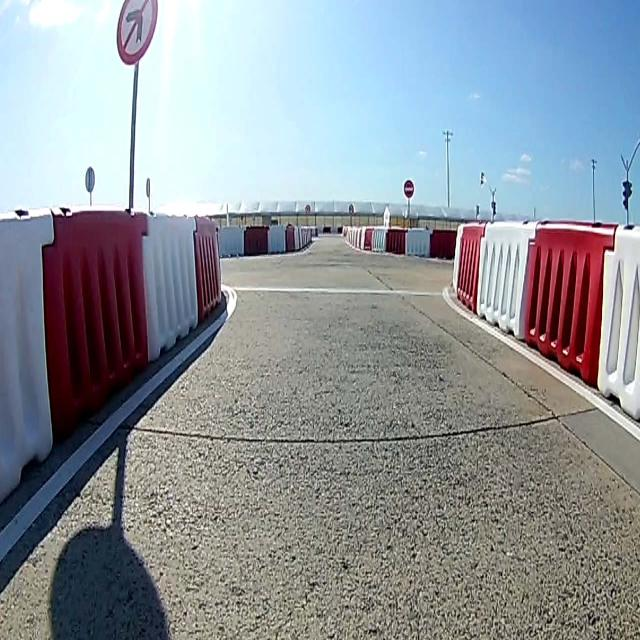girisyok: (404, 180, 414, 198)
soladonulmez: (116, 1, 158, 66)
